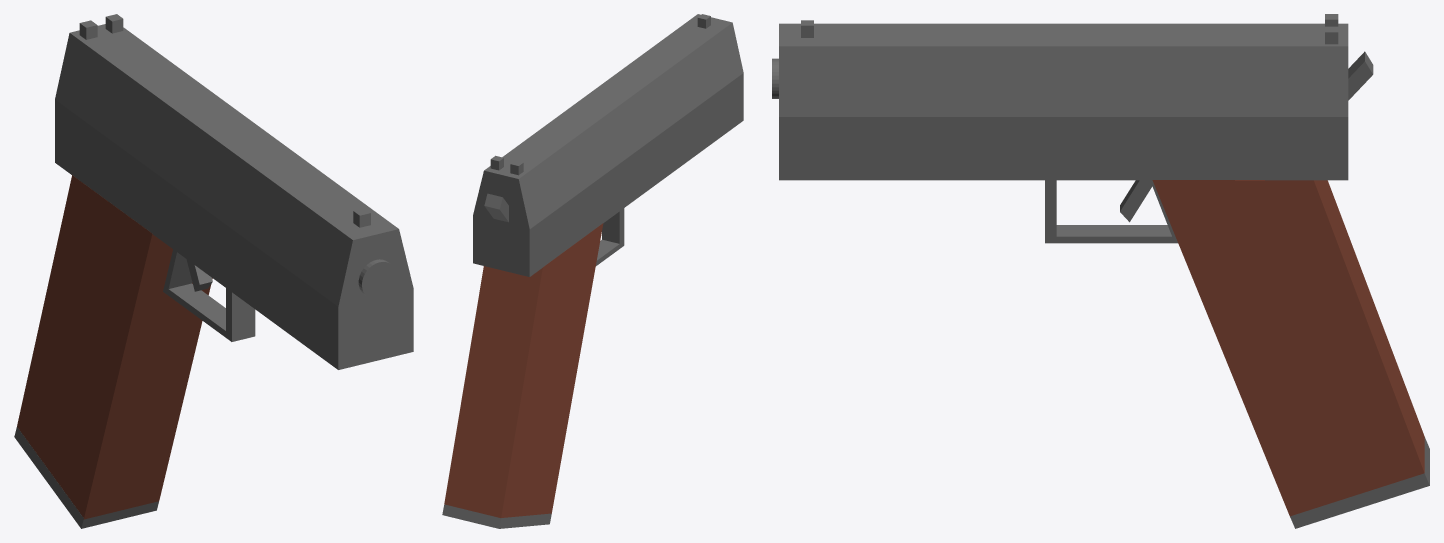
The model's file is AEG_Colt.fbx.
3 renders of one model, left to right at view 1: azimuth 30°, elevation 25°; view 2: azimuth 150°, elevation 25°; view 3: azimuth 270°, elevation 25°, orthographic. The views are drawn at different scales.
Visible parts, largest first — view 1: Pistol, Magazine; view 2: Pistol, Magazine; view 3: Pistol, Magazine.
Part boxes in pixels (<box>): Pistol: <box>17,14,413,519</box>; Magazine: <box>14,427,158,528</box>; Pistol: <box>444,14,743,517</box>; Magazine: <box>442,504,551,528</box>; Pistol: <box>772,14,1424,516</box>; Magazine: <box>1290,437,1429,528</box>.
Bounding box in the file's own units: 201 × 1232 × 1506.
